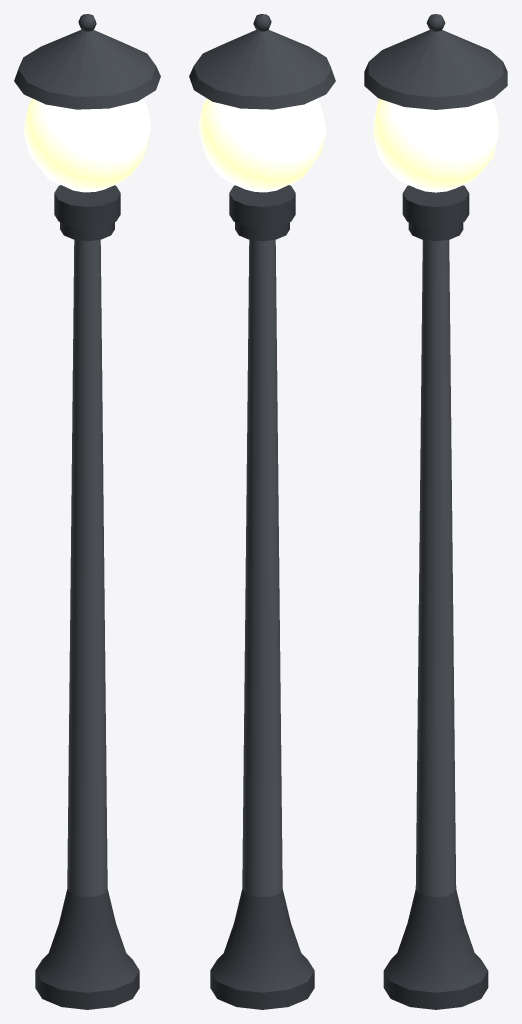
The model's file is poste-luz-pedestre.glb.
3 views of the same model, side by side, from view 1: azimuth 30°, elevation 25°; view 2: azimuth 150°, elevation 25°; view 3: azimuth 270°, elevation 25° (orthographic).
Visible parts, largest first — view 1: Poste, Luz, Topo; view 2: Poste, Luz, Topo; view 3: Poste, Luz, Topo.
Part boxes in pixels (x1=…): Poste: x1=35, y1=185, x2=139, y2=1009; Luz: x1=23, y1=98, x2=151, y2=192; Topo: x1=14, y1=14, x2=160, y2=109; Poste: x1=210, y1=185, x2=314, y2=1009; Luz: x1=198, y1=98, x2=326, y2=192; Topo: x1=189, y1=14, x2=335, y2=109; Poste: x1=383, y1=185, x2=488, y2=1009; Luz: x1=373, y1=99, x2=498, y2=192; Topo: x1=364, y1=14, x2=507, y2=109.
Bounding box in the file's own units: 0.62 × 4.52 × 0.6045.
